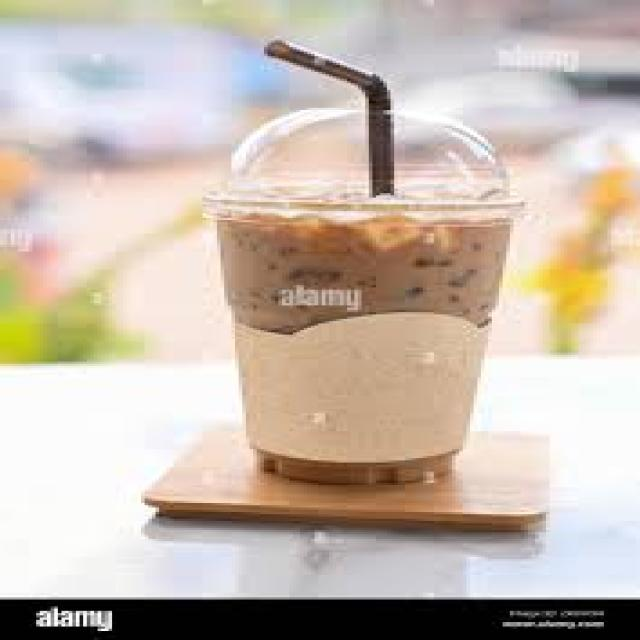bottle: (208, 198, 519, 483)
